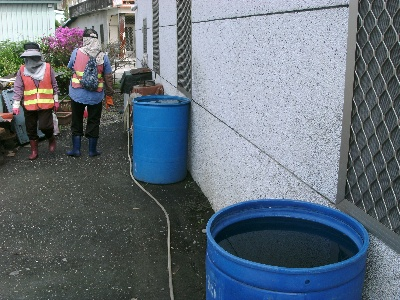bucket: (205, 198, 368, 300), (132, 93, 194, 186)
